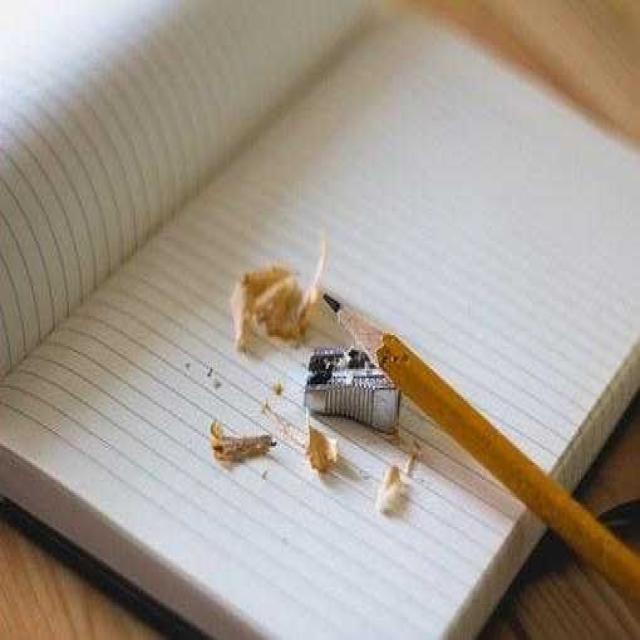pencil: (299, 281, 639, 628)
